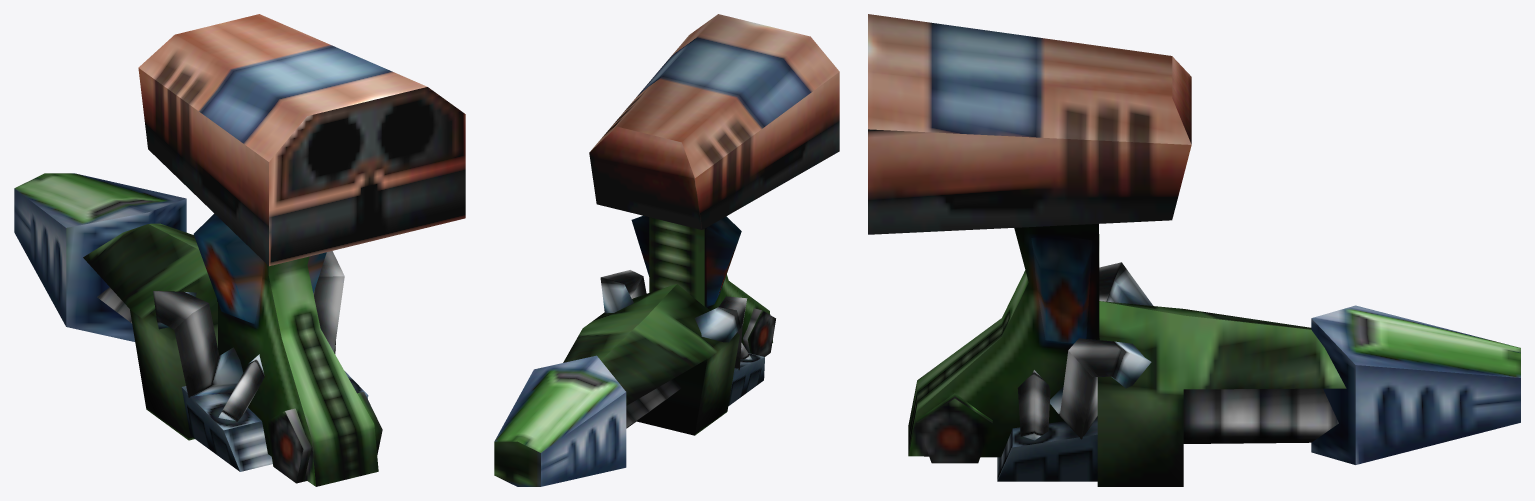
File: datan_common_arm26_srmd_f4149406.obj
The picture shows the model from 3 angles, left to right: view 1: azimuth 30°, elevation 25°; view 2: azimuth 150°, elevation 25°; view 3: azimuth 270°, elevation 25°; orthographic projection. The views are drawn at different scales.
Parts seen in each view (by area): view 1: datan_common_arm26_srmd_f4149406_mesh00; view 2: datan_common_arm26_srmd_f4149406_mesh00; view 3: datan_common_arm26_srmd_f4149406_mesh00.
Part boxes in pixels (bbox=[...]): datan_common_arm26_srmd_f4149406_mesh00: bbox=[14, 14, 465, 486]; datan_common_arm26_srmd_f4149406_mesh00: bbox=[494, 14, 839, 486]; datan_common_arm26_srmd_f4149406_mesh00: bbox=[868, 14, 1520, 486].
Size of the model in its own units: 0.4351 by 0.8591 by 1.24.
1 material, 1 textured.
